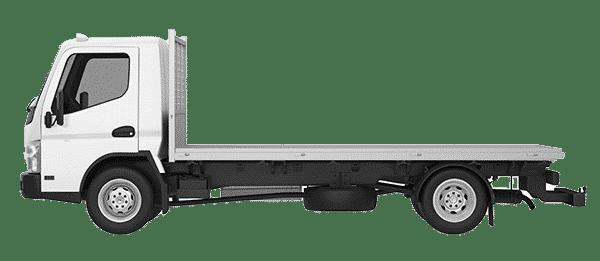truck: (19, 27, 588, 238)
